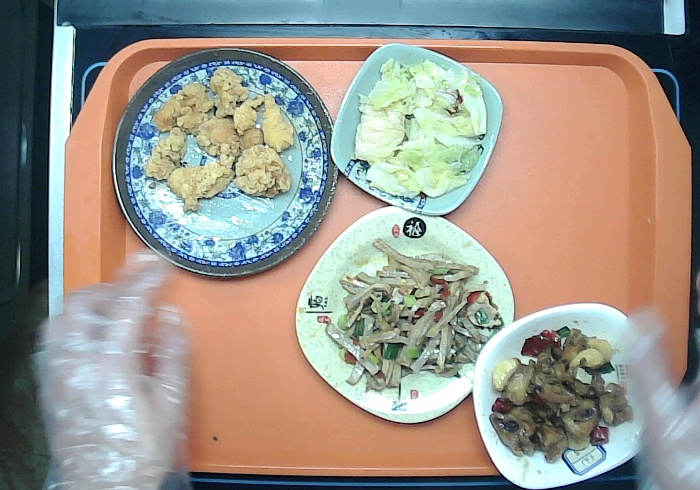NLDX-Bai_Se_Xiao_Fang_Die: (466, 303, 661, 490)
NLDX-Fu_Zi_Fang_Die: (291, 207, 516, 418)
NLDX-Qing_Hua_Xiao_Fang_Die: (328, 44, 506, 218)
NLDX-Qing_Hua_Yuan_Die: (114, 52, 348, 287)
